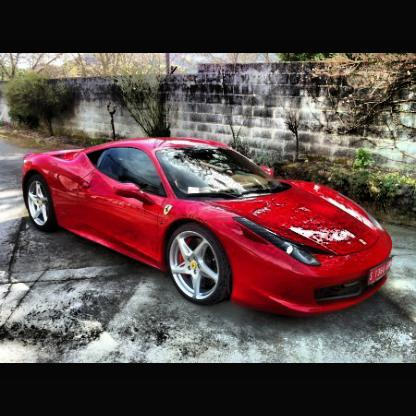Ferrari 458 Italia Coupe 2012: (22, 137, 397, 320)
